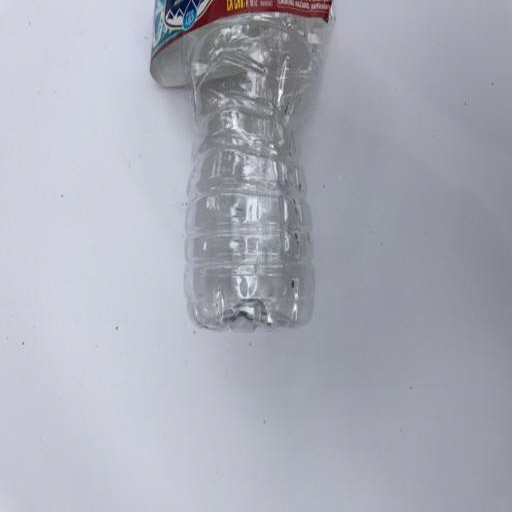Plastic_0: (181, 1, 321, 338)
